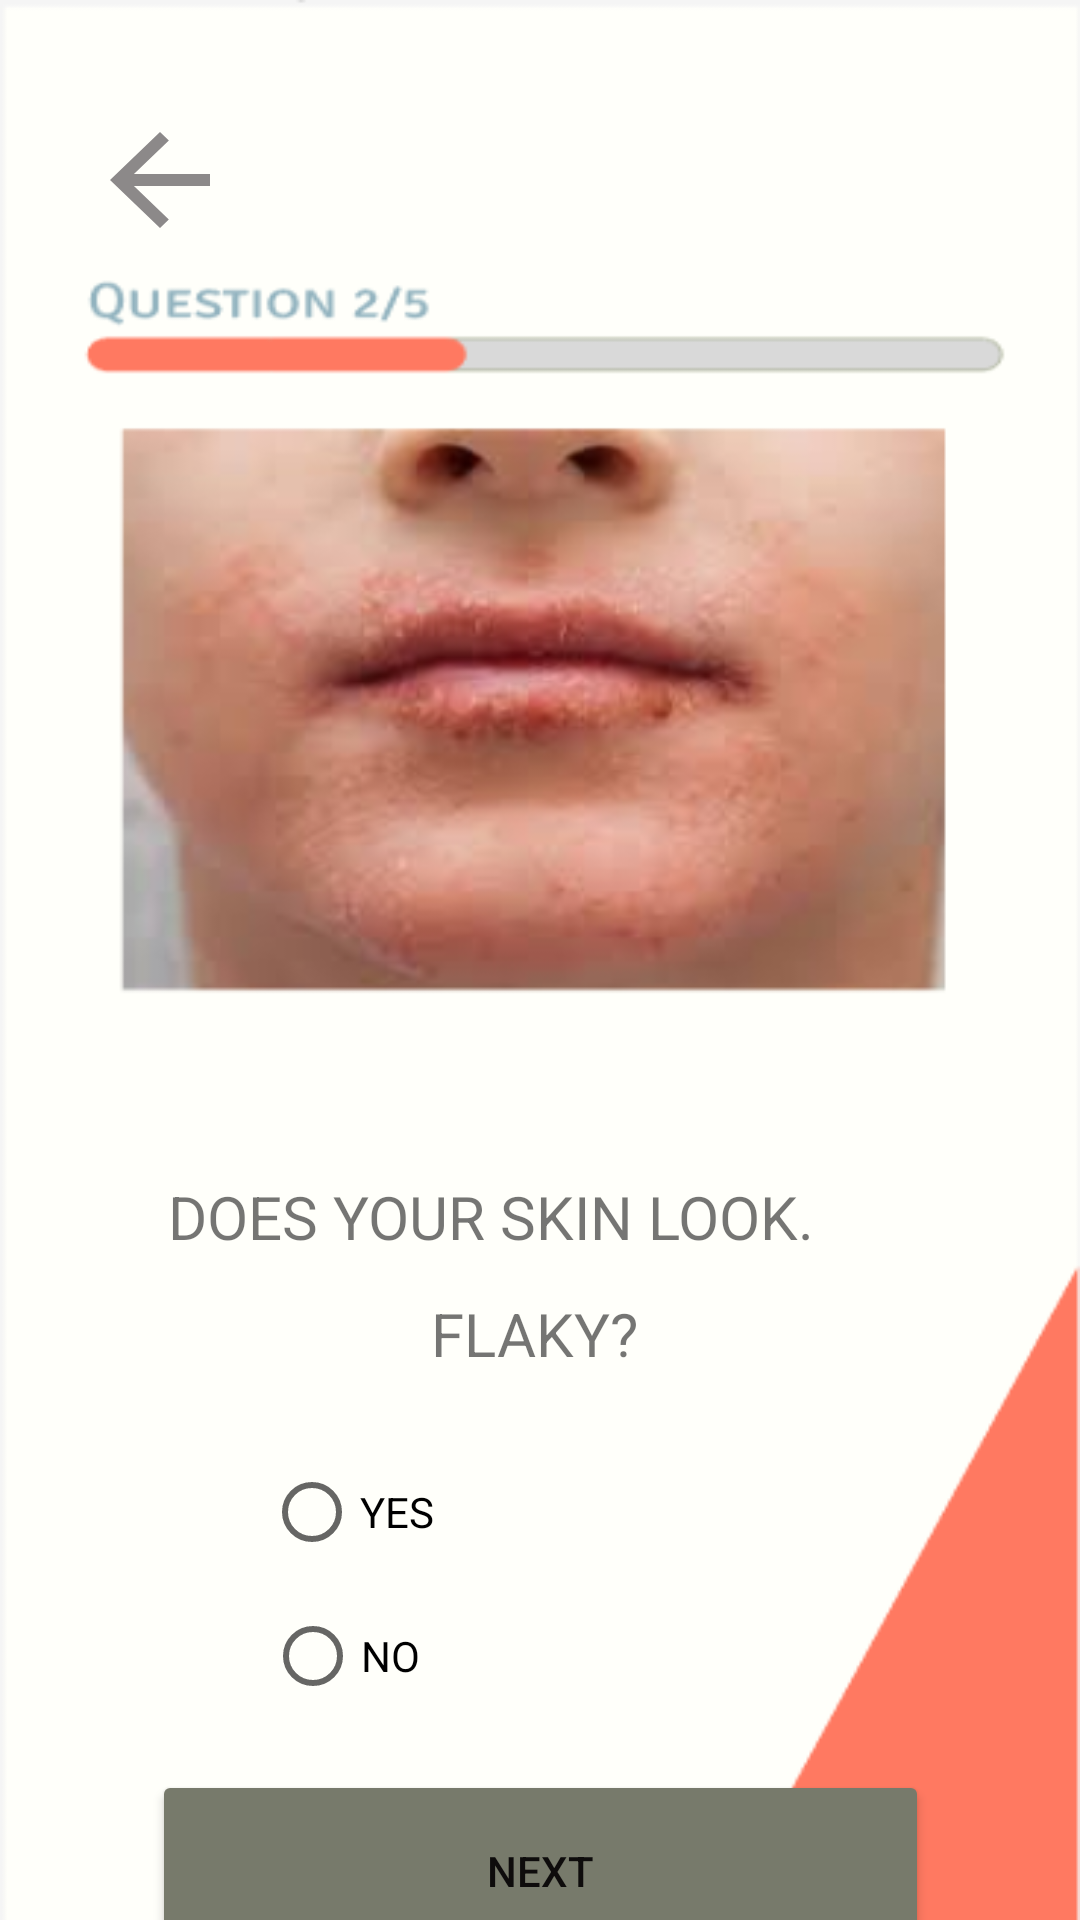

Icon bounding boxes for this 1080w x 1920h phone screenshot, format (x1, y1, x2, y2):
arrow back: (110, 132, 210, 228)
